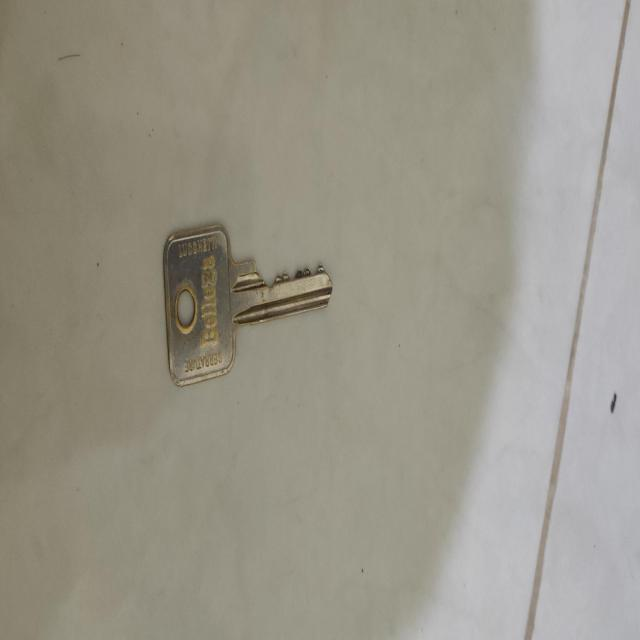kunci_kos: (161, 220, 334, 386)
